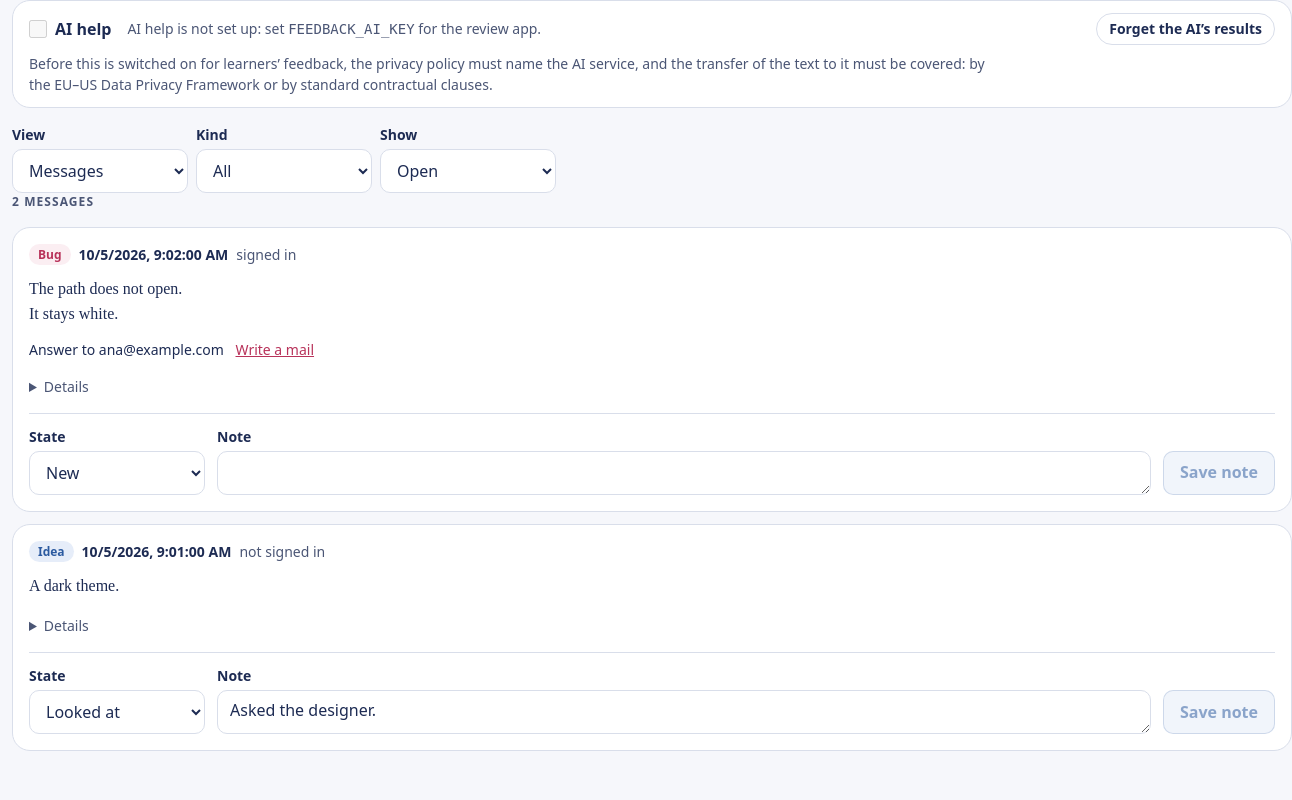
Scenario: AdminFeedback › saves the note on Save note, with the state as it is, and keeps what was typed when that fails
This screenshot has width=1292, height=800.
Expected: the 2nd button "Save note" is disabled, [1163,690,1275,734]
Replace the text in the text box labelled "Note" below "A dark theme." with " Shipped in the next version. ": (684, 712) [217,690,1151,734]
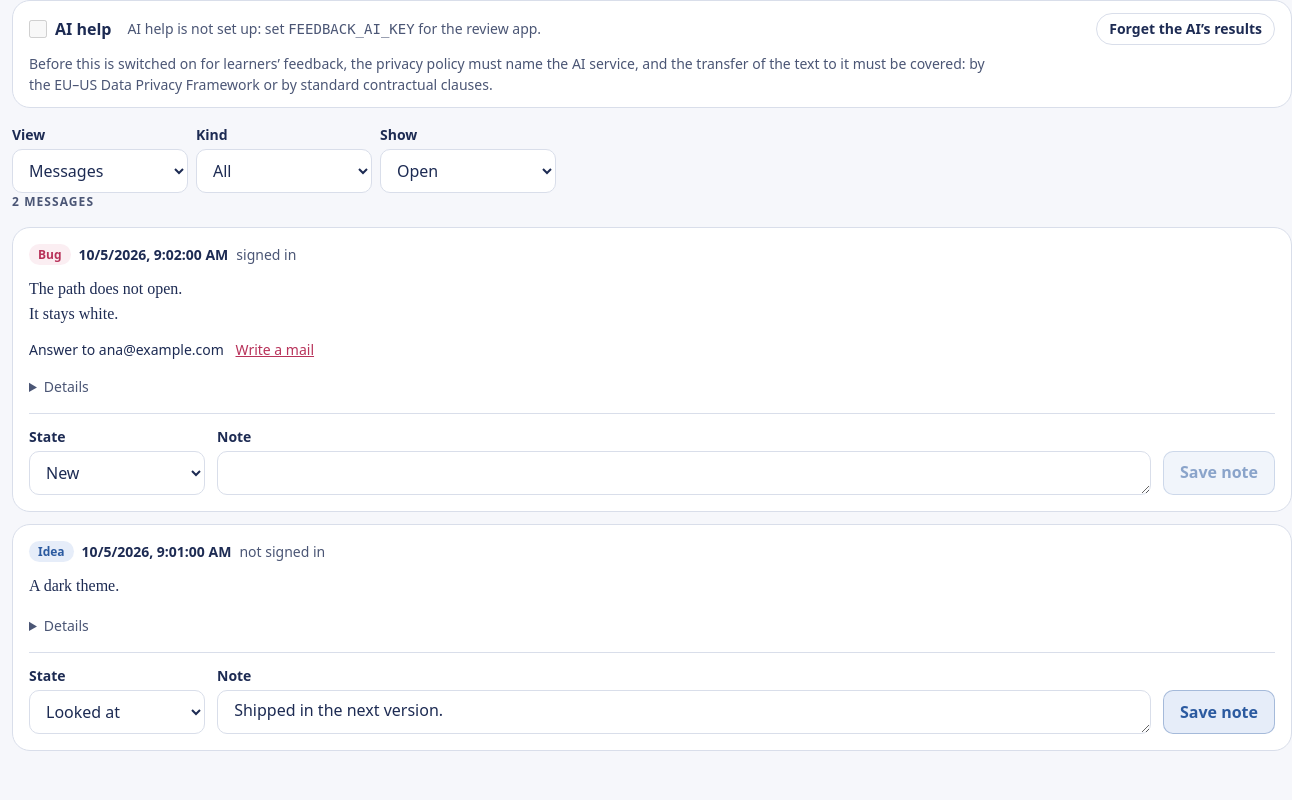
Expected: the 2nd button "Save note" is enabled
Click the 2nd button "Save note": (1219, 712) [1163,690,1275,734]
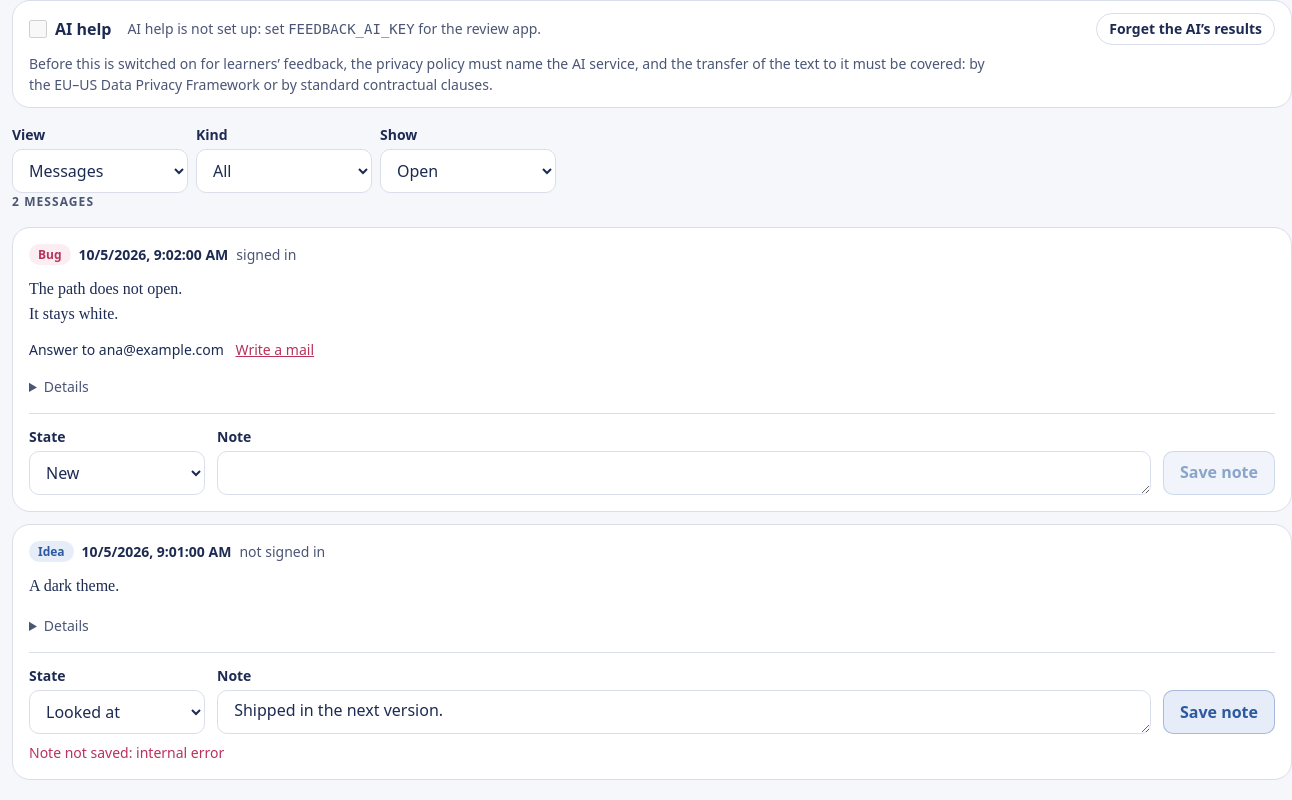
Expected: the 2nd button "Save note" is enabled, [1163,690,1275,734]
Expected: the text "Note not saved: internal error" is shown, [29,742,224,763]
Submit the form named "Your mark", box [29,652,1275,763]
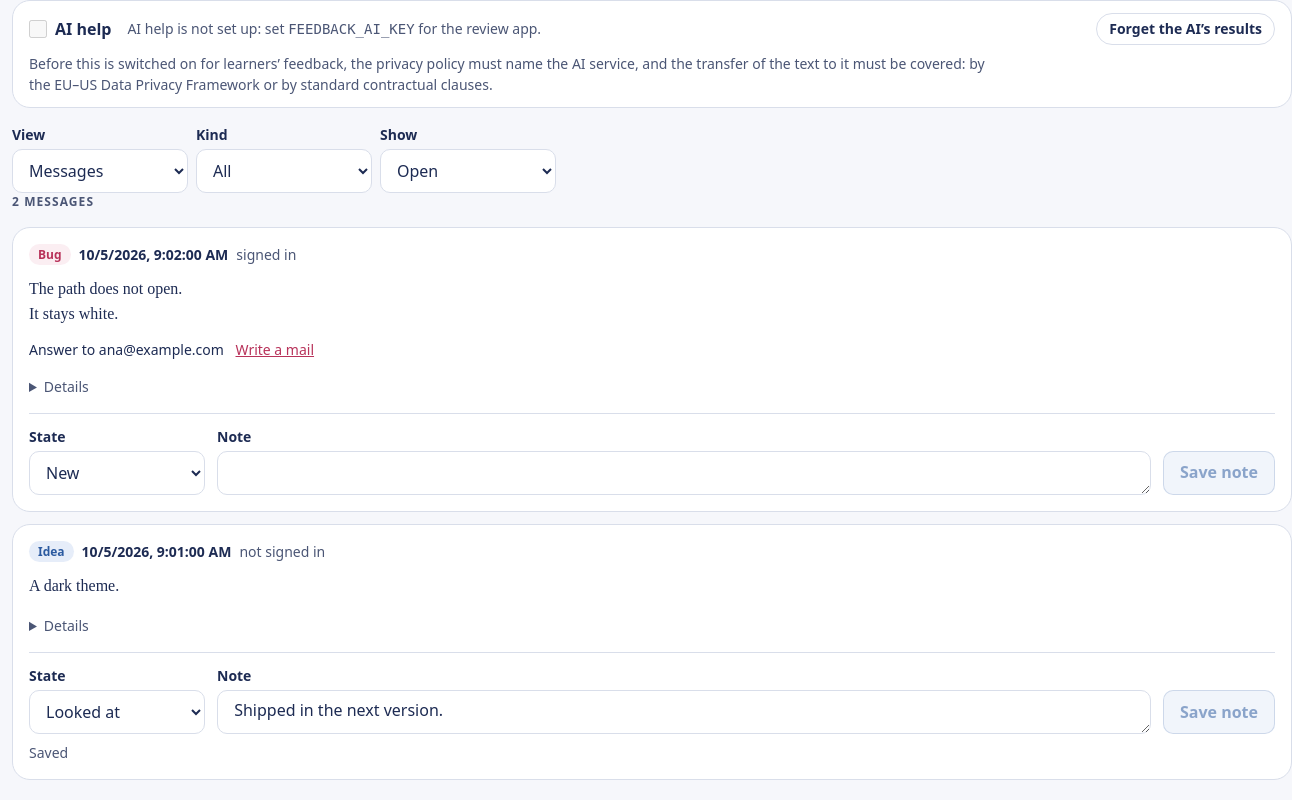
Expected: the text "Saved" is shown, [29,742,68,763]
Expected: the 2nd button "Save note" is disabled, [1163,690,1275,734]
# The state chosen next goes with the note just saved.
Select "Done" in the dropdown labelled "State" below "A dark theme.": (117, 712) [29,690,205,734]
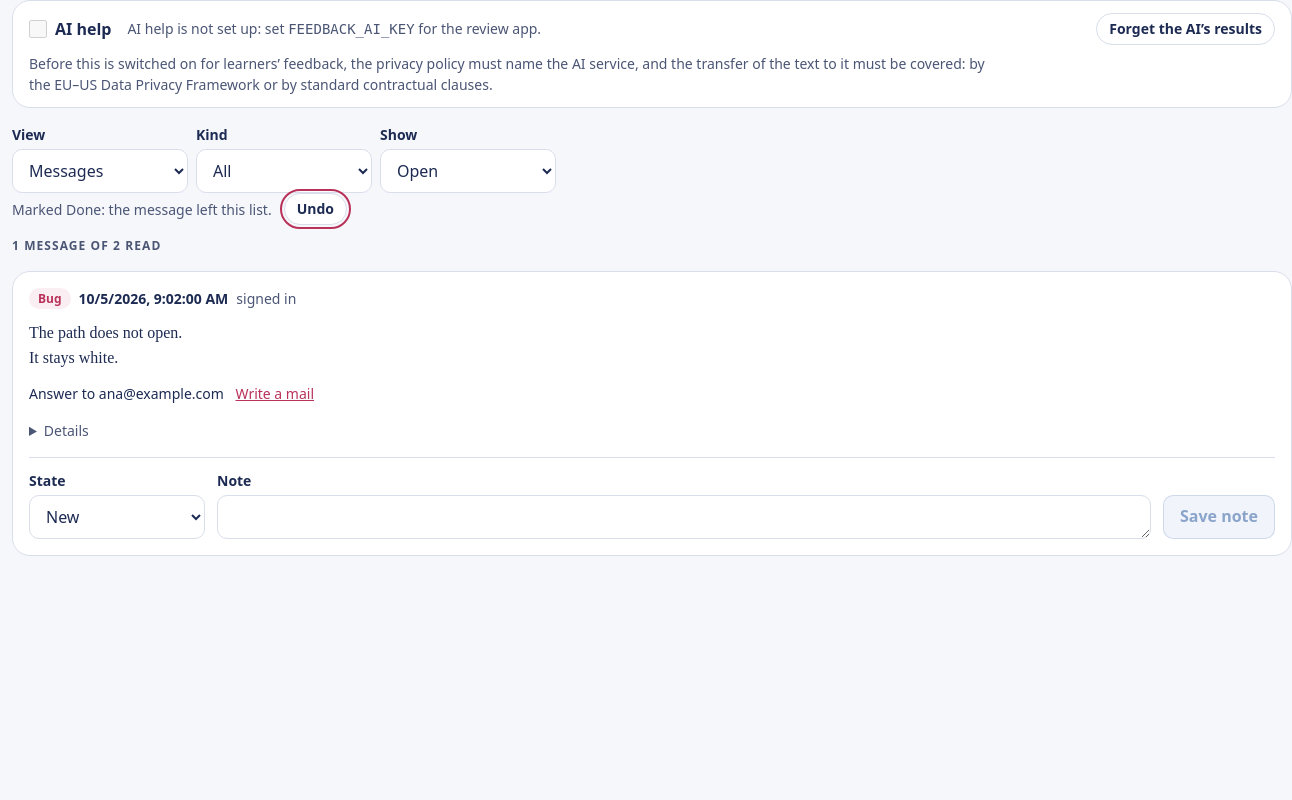
Expected: the text "Saved" is gone
